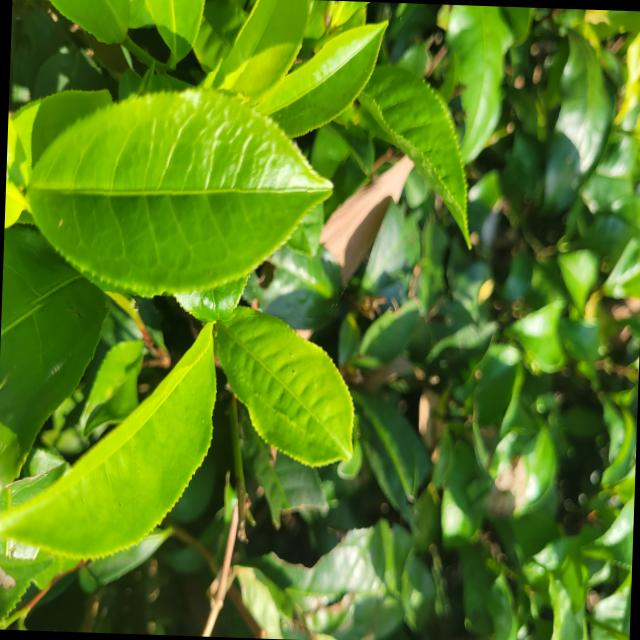Catagory A(1-2 days): (1, 64, 346, 319)
